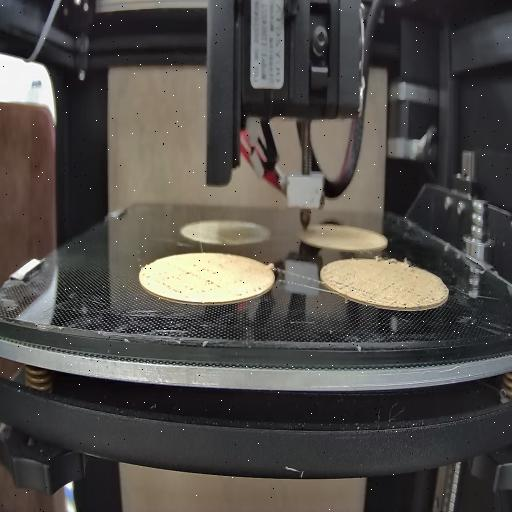under_extrusion: (158, 256, 224, 296), (375, 272, 433, 310), (331, 277, 363, 299), (236, 280, 262, 302)
